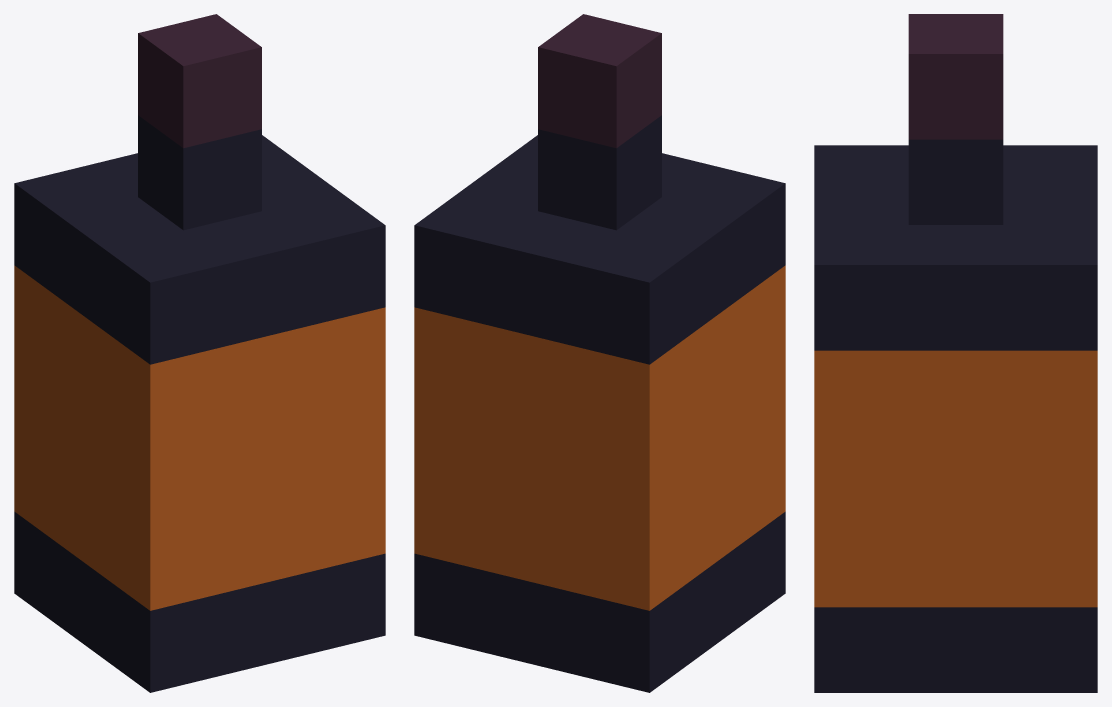
The model's file is bottle_0.gltf.
3 views of the same model, side by side, from view 1: azimuth 30°, elevation 25°; view 2: azimuth 150°, elevation 25°; view 3: azimuth 270°, elevation 25° (orthographic). The views are drawn at different scales.
Parts seen in each view (by area): view 1: Layer.1; view 2: Layer.1; view 3: Layer.1.
Part boxes in pixels (x1=…): Layer.1: x1=14, y1=14, x2=385, y2=692; Layer.1: x1=414, y1=14, x2=785, y2=692; Layer.1: x1=814, y1=14, x2=1097, y2=692.
Bounding box in the file's own units: 3 × 7 × 3.
